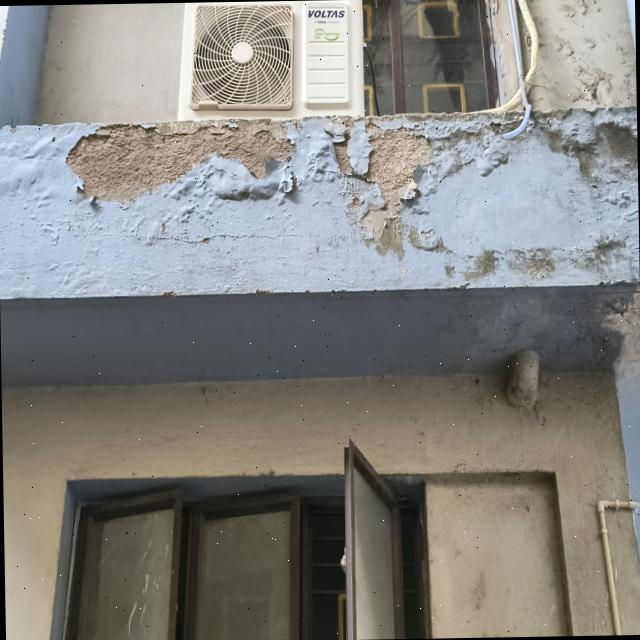Paint Peeling: (0, 107, 639, 284)
